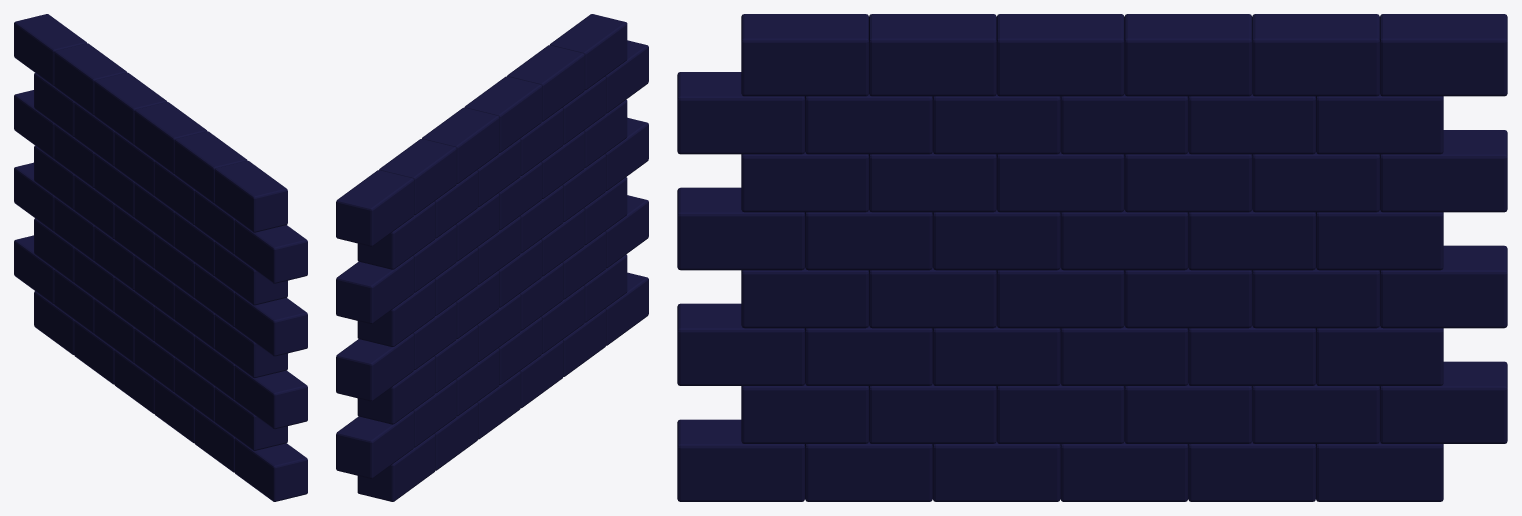
The model's file is Wall.fbx.
The picture shows the model from 3 angles, left to right: view 1: azimuth 30°, elevation 25°; view 2: azimuth 150°, elevation 25°; view 3: azimuth 270°, elevation 25°; orthographic projection. The views are drawn at different scales.
Parts seen in each view (by area): view 1: Wall; view 2: Wall; view 3: Wall.
Boxes of the visible parts, x1=… form: Wall: x1=14, y1=14, x2=307, y2=501; Wall: x1=336, y1=14, x2=648, y2=501; Wall: x1=677, y1=14, x2=1507, y2=501.
Size of the model in its own units: 1299 by 100 by 800.
